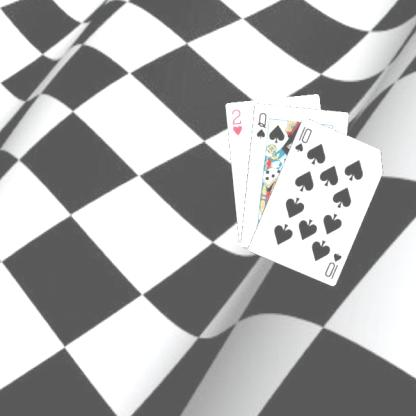10S: (321, 250, 343, 280), (292, 123, 313, 153)
2H: (229, 106, 243, 137)
QS: (253, 110, 267, 140)
